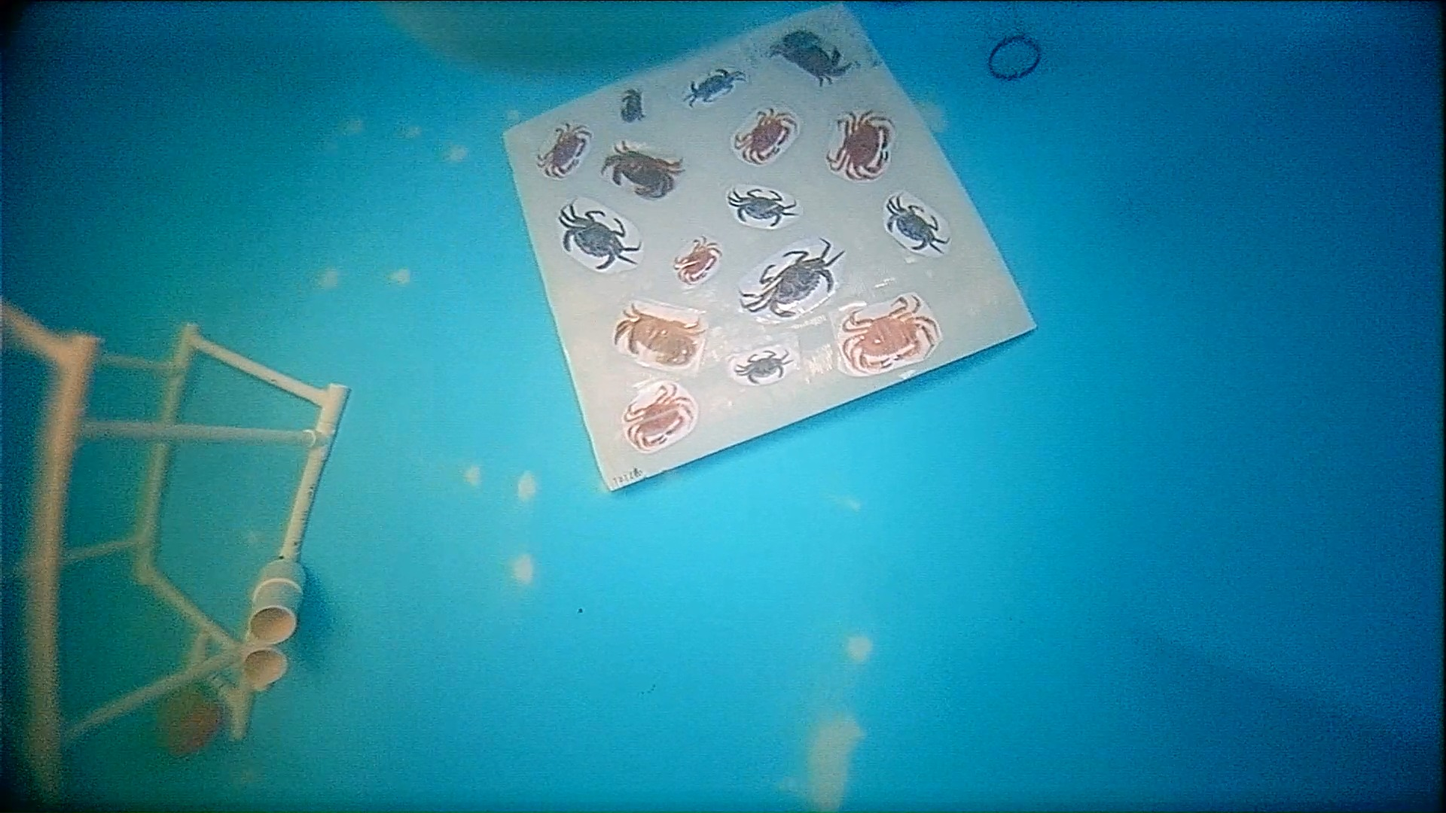GreenCrab: (742, 240, 844, 315), (559, 203, 640, 270), (728, 188, 795, 227), (734, 350, 789, 384)
